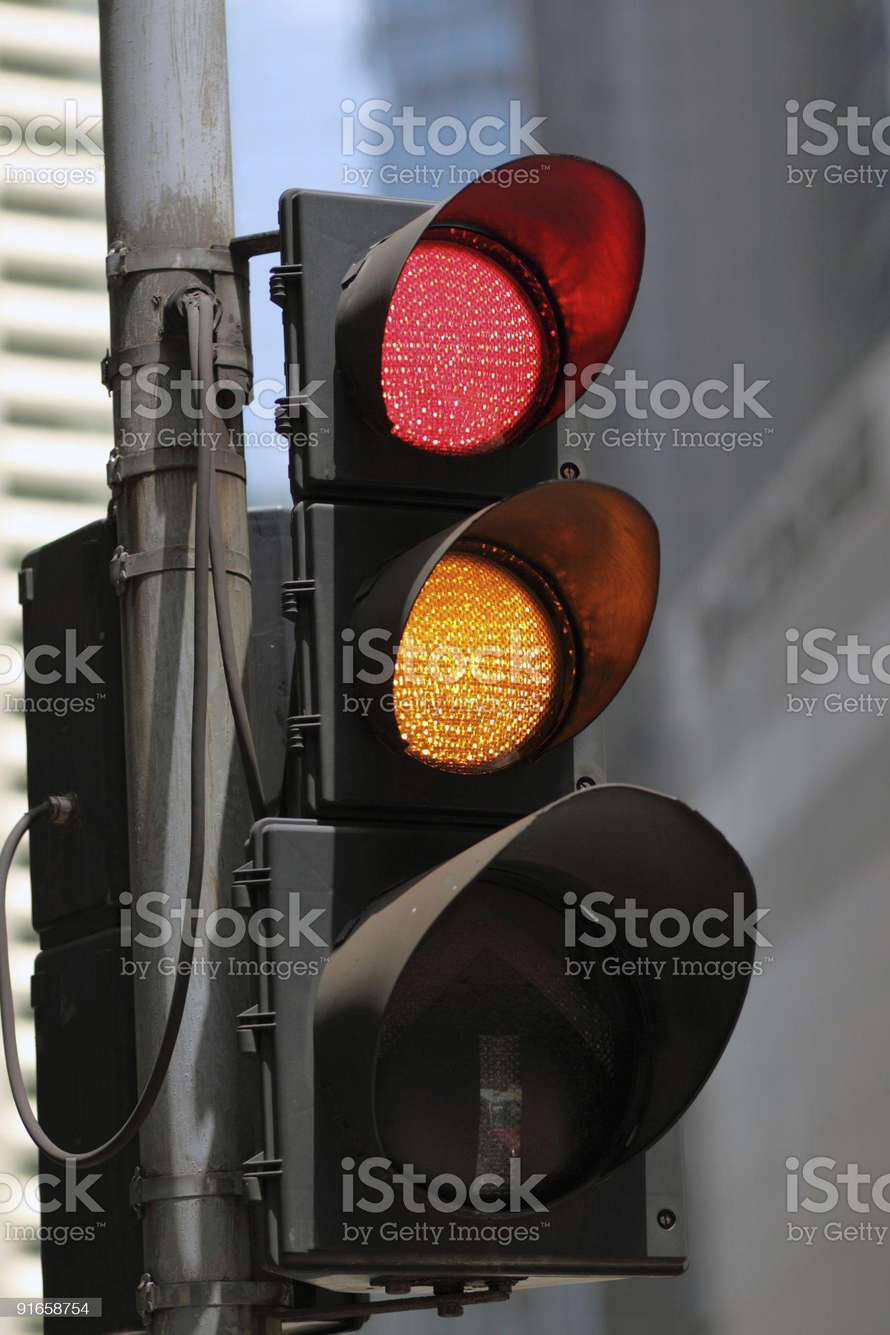red: (277, 156, 772, 1278)
